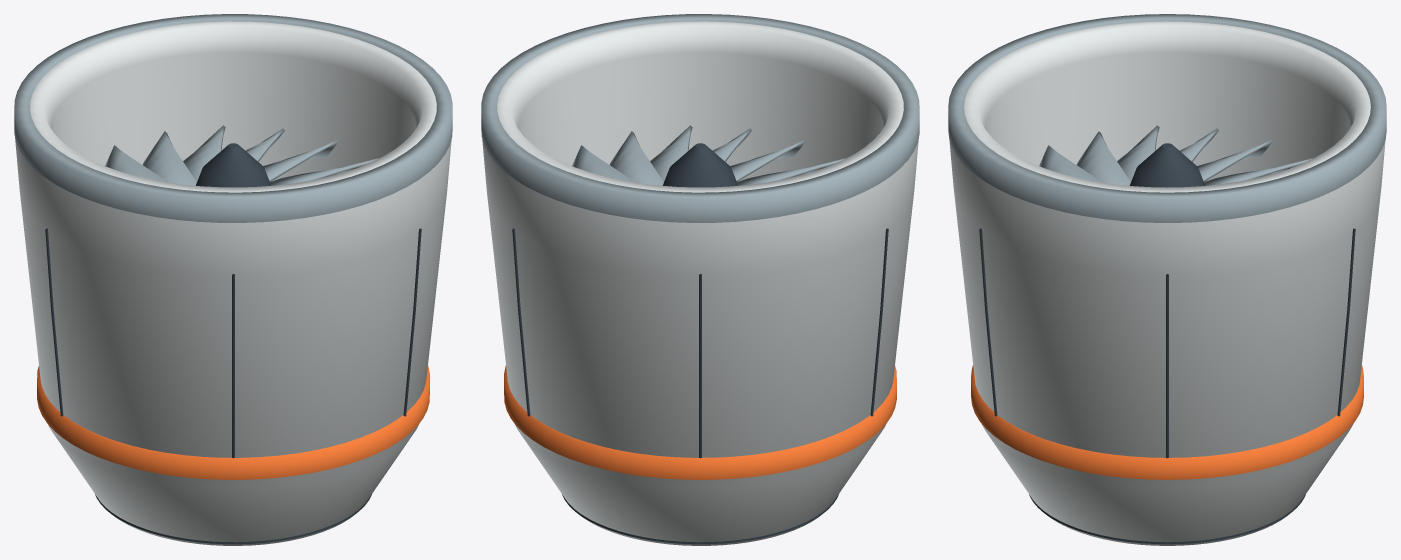
The model's file is jet.glb.
3 renders of one model, left to right at view 1: azimuth 30°, elevation 25°; view 2: azimuth 150°, elevation 25°; view 3: azimuth 270°, elevation 25°, orthographic.
Visible parts, largest first — view 1: Open nacelle; view 2: Open nacelle; view 3: Open nacelle.
Part boxes in pixels (x1,y1,x2,y2): Open nacelle: (14, 14, 452, 545); Open nacelle: (481, 14, 919, 545); Open nacelle: (948, 14, 1386, 545).
Size of the model in its own units: 1.25 by 1.2 by 1.25.
